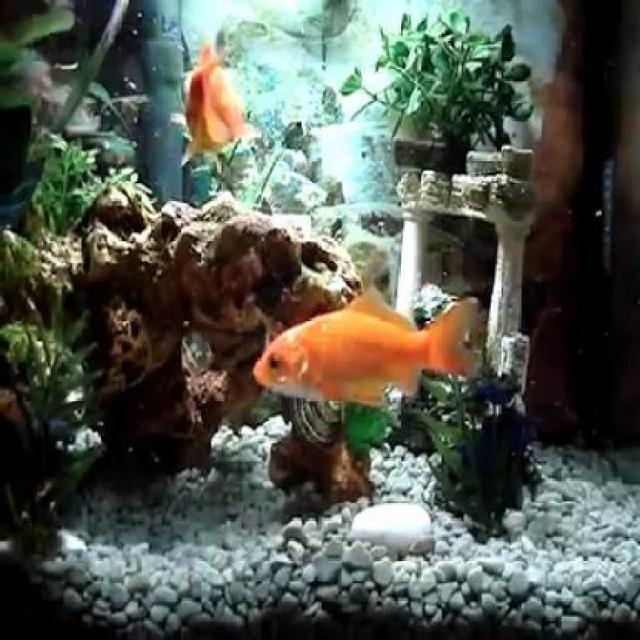GoldFish: (253, 285, 482, 412), (174, 37, 251, 168)
